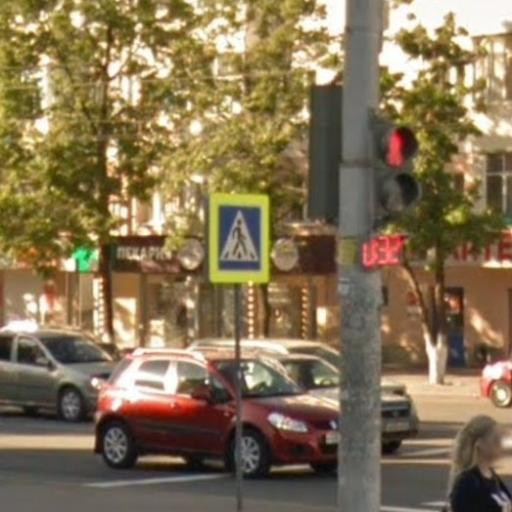traffic_sign: (207, 191, 273, 283)
